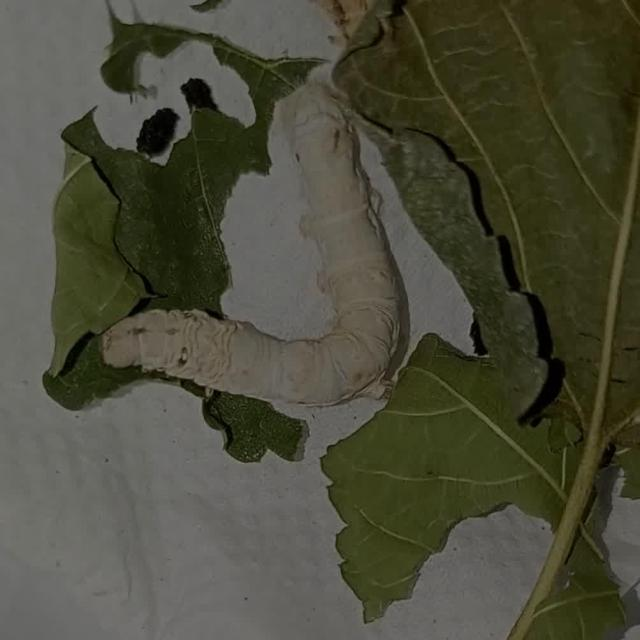Healthy: (64, 51, 418, 418)
